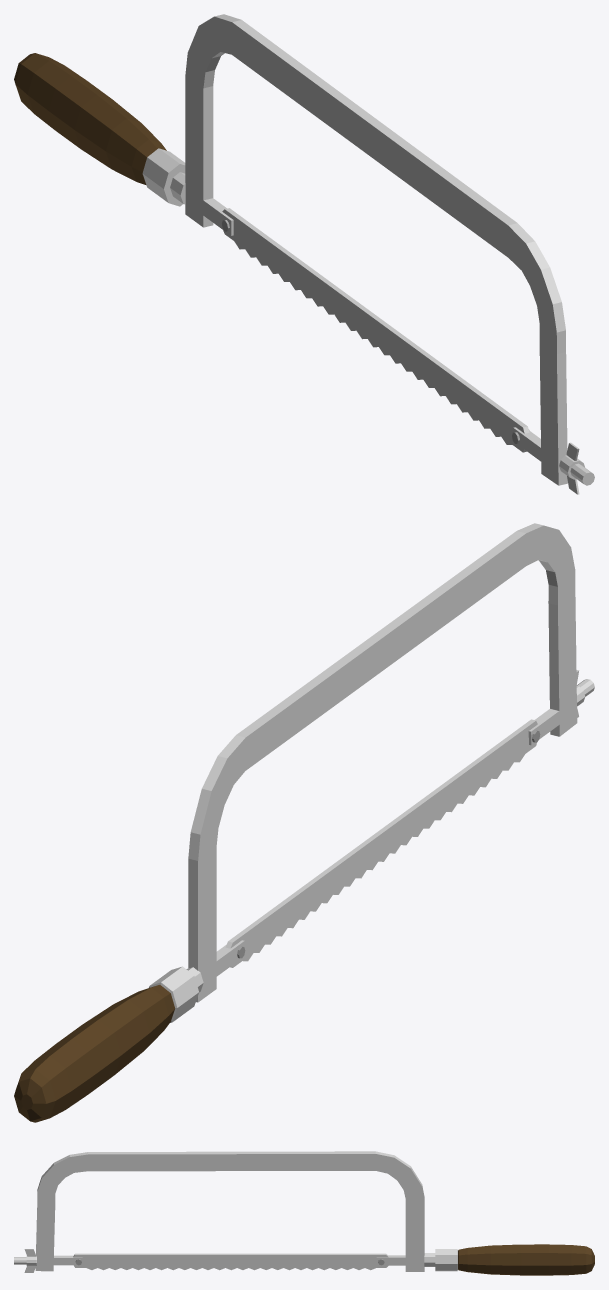
Rendered from saw-precision.glb.
3 renders of one model, top to bottom at view 1: azimuth 30°, elevation 25°; view 2: azimuth 150°, elevation 25°; view 3: azimuth 270°, elevation 25°, orthographic. The views are drawn at different scales.
Parts seen in each view (by area): view 1: saw_precision; view 2: saw_precision; view 3: saw_precision.
Boxes of the visible parts, left/top/right/bottom form: saw_precision: left=14, top=14, right=594, bottom=494; saw_precision: left=14, top=523, right=594, bottom=1122; saw_precision: left=14, top=1151, right=594, bottom=1275.
Size of the model in its own units: 1.2 by 6.03 by 25.84.
